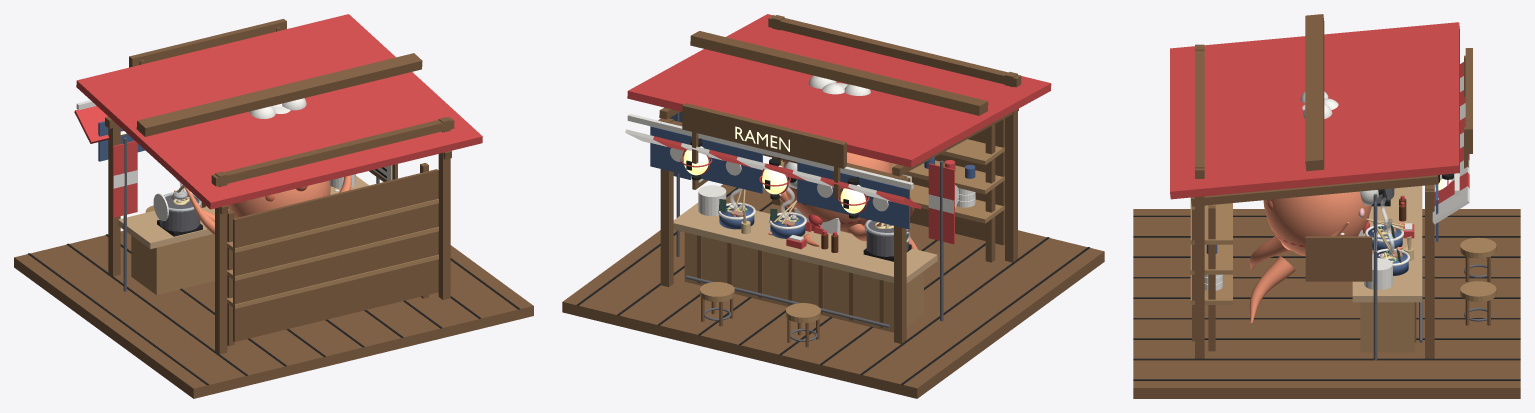
The model's file is octopus-ramen-shop.glb.
The picture shows the model from 3 angles, left to right: view 1: azimuth 30°, elevation 25°; view 2: azimuth 150°, elevation 25°; view 3: azimuth 270°, elevation 25°; orthographic projection. The views are drawn at different scales.
Visible parts, largest first — view 1: Roof, Deck, ShelfBack, RoofRidge, CounterFront, BackBeam, Post_2.3_-1.9, Post_-2.3_-1.9, SignBoard, CounterTop, NoboriFlag_0, OctoHead (+11 smaller); view 2: Deck, Roof, CounterFront, CounterTop, RoofRidge, SignBoard, BackBeam, ShelfBack, Post_-2.3_-1.9, RoofTrim, NorenNew_2, Post_2.3_1.9 (+19 smaller); view 3: Deck, Roof, OctoHead, CounterTop, MenuBoard, RoofRidge, CounterFront, SideBeam_2.3, Post_2.3_-1.9, Post_2.3_1.9, BackBeam, PlankLine_7 (+20 smaller).
Boxes of the visible parts, bbox=[...] form: Roof: bbox=[76, 14, 482, 209]; Deck: bbox=[14, 230, 533, 398]; ShelfBack: bbox=[233, 169, 438, 341]; RoofRidge: bbox=[136, 53, 422, 136]; CounterFront: bbox=[131, 234, 214, 294]; BackBeam: bbox=[211, 117, 454, 186]; Post_2.3_-1.9: bbox=[438, 117, 450, 299]; Post_-2.3_-1.9: bbox=[215, 171, 227, 354]; SignBoard: bbox=[129, 19, 286, 67]; CounterTop: bbox=[118, 176, 369, 249]; NoboriFlag_0: bbox=[112, 140, 137, 217]; OctoHead: bbox=[228, 180, 330, 218]; Deck: bbox=[562, 184, 1104, 398]; Roof: bbox=[627, 14, 1051, 167]; CounterFront: bbox=[684, 232, 923, 332]; CounterTop: bbox=[673, 202, 937, 283]; RoofRidge: bbox=[690, 31, 988, 115]; SignBoard: bbox=[682, 103, 846, 168]; BackBeam: bbox=[768, 15, 1021, 87]; ShelfBack: bbox=[892, 118, 1004, 245]; Post_-2.3_-1.9: bbox=[1005, 72, 1017, 262]; RoofTrim: bbox=[627, 114, 913, 189]; NorenNew_2: bbox=[706, 140, 762, 193]; Post_2.3_1.9: bbox=[660, 118, 673, 286]; Deck: bbox=[1133, 209, 1520, 398]; Roof: bbox=[1170, 22, 1459, 199]; OctoHead: bbox=[1263, 191, 1371, 256]; CounterTop: bbox=[1352, 186, 1422, 302]; MenuBoard: bbox=[1305, 236, 1372, 281]; RoofRidge: bbox=[1305, 14, 1324, 171]; CounterFront: bbox=[1360, 302, 1414, 352]; SideBeam_2.3: bbox=[1191, 175, 1438, 206]; Post_2.3_-1.9: bbox=[1195, 163, 1204, 358]; Post_2.3_1.9: bbox=[1425, 185, 1434, 358]; BackBeam: bbox=[1195, 44, 1204, 178]; PlankLine_7: bbox=[1133, 358, 1520, 360].
Size of what is drawn, in the model's own units: 7 by 4.05 by 6.4.
